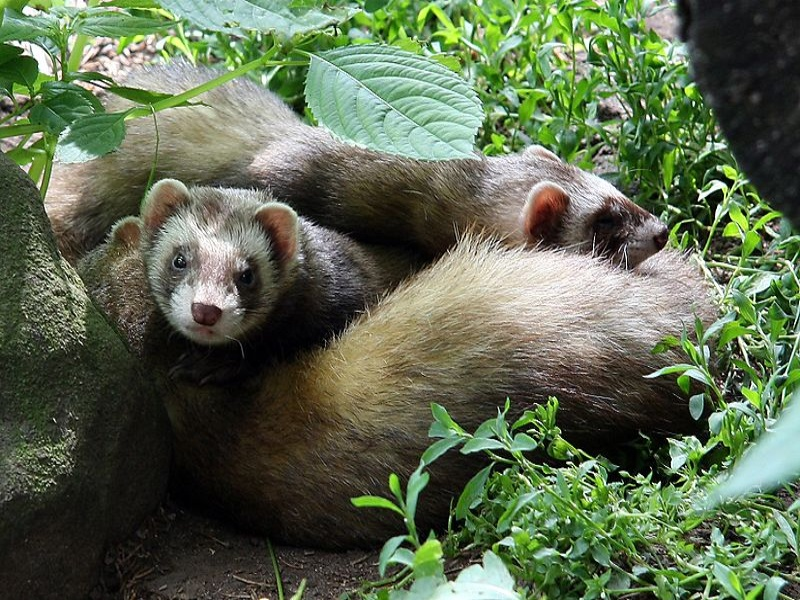minkish: (75, 217, 717, 537), (31, 53, 671, 276), (129, 180, 451, 346)
